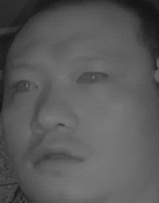eye: (75, 65, 111, 89), (11, 74, 40, 95)
mouth: (27, 139, 85, 172)
